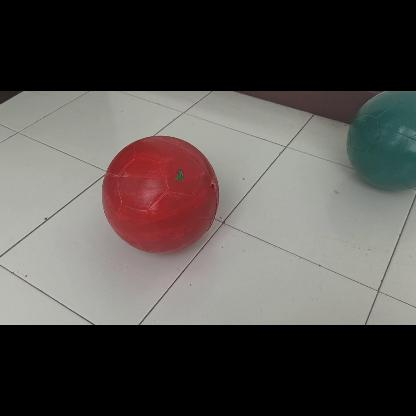red_ball: (99, 132, 219, 252)
